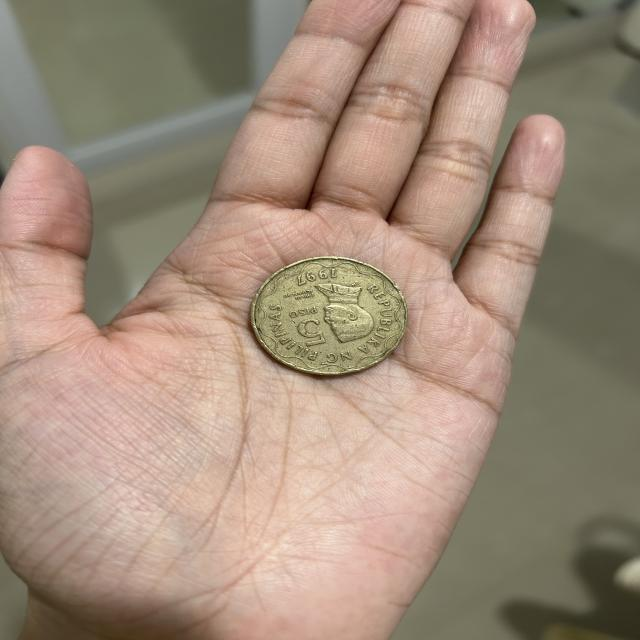5_Old_Front: (286, 304, 336, 351)
